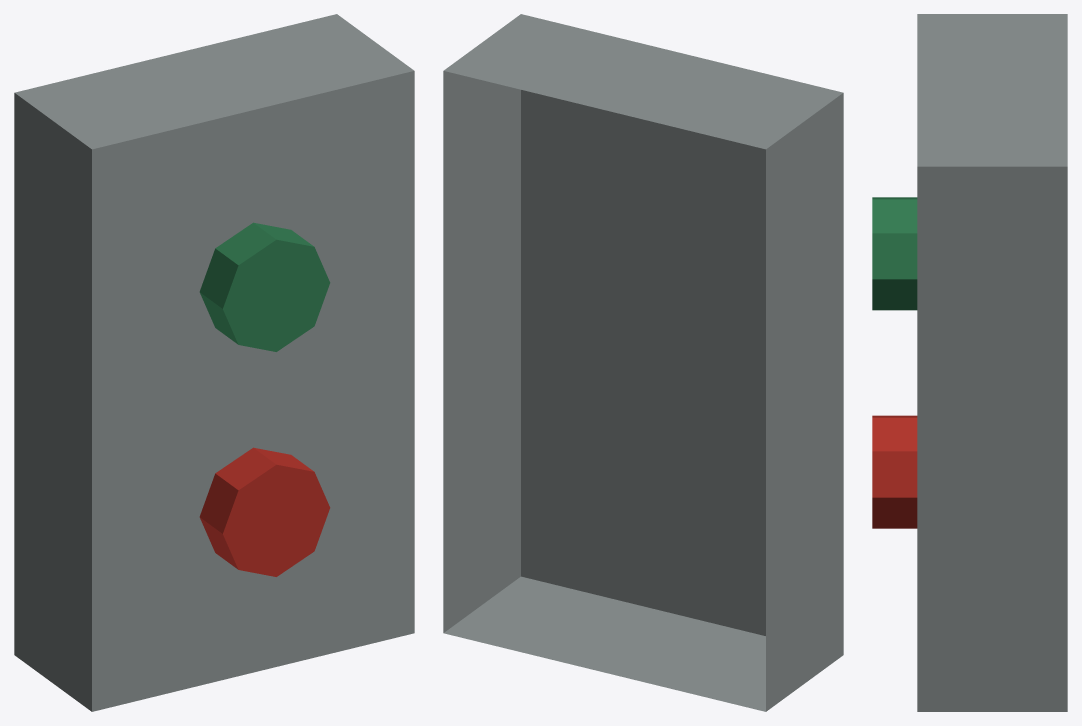
Rendered from wall_button.gltf.
3 renders of one model, left to right at view 1: azimuth 30°, elevation 25°; view 2: azimuth 150°, elevation 25°; view 3: azimuth 270°, elevation 25°, orthographic. The views are drawn at different scales.
Parts seen in each view (by area): view 1: Mesh; view 2: Mesh; view 3: Mesh.
Boxes of the visible parts, box(x1,y1,x2,y2) form: Mesh: box(14, 14, 414, 711); Mesh: box(443, 14, 843, 711); Mesh: box(872, 14, 1067, 711).
Bounding box in the file's own units: 0.12 × 0.2 × 0.065.
